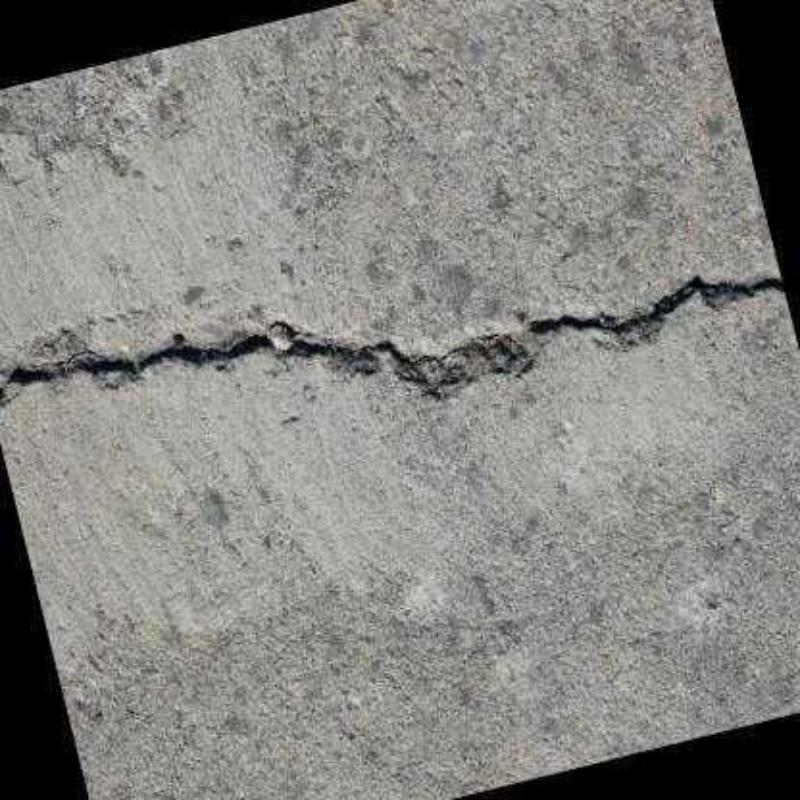pothole: (0, 321, 537, 406), (523, 273, 786, 340)
